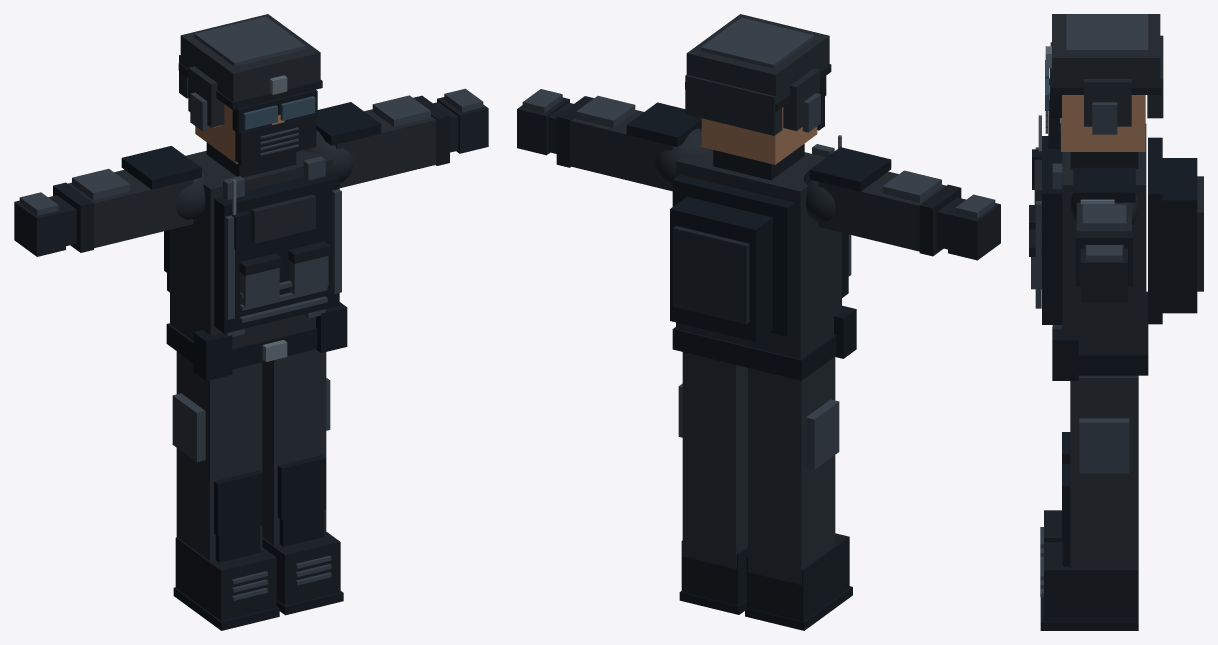
Rendered from joe.glb.
The picture shows the model from 3 angles, left to right: view 1: azimuth 30°, elevation 25°; view 2: azimuth 150°, elevation 25°; view 3: azimuth 270°, elevation 25°; orthographic projection. The views are drawn at different scales.
Parts seen in each view (by area): view 1: trousers_R, jacket_body, trousers_L, vest_front, boot_R, helmet_shell, sleeve_R, sleeve_L, boot_L, helmet_panel, knee_patch_L, knee_patch_R (+31 smaller); view 2: trousers_R, trousers_L, jacket_body, backpack, backpack_panel, vest_back, sleeve_R, helmet_shell, boot_R, sleeve_L, helmet_rear, belt (+18 smaller); view 3: trousers_L, jacket_body, backpack, boot_L, helmet_shell, vest_front, helmet_panel, face, cargo_pocket_L, vest_back, glove_L, shoulder_armor_L (+22 smaller).
Part boxes in pixels (left/top/right/bottom): trousers_R: left=176, top=351, right=262, bottom=561; jacket_body: left=170, top=150, right=332, bottom=348; trousers_L: left=262, top=349, right=326, bottom=545; vest_front: left=214, top=170, right=339, bottom=333; boot_R: left=175, top=537, right=276, bottom=620; helmet_shell: left=180, top=14, right=320, bottom=101; sleeve_R: left=68, top=170, right=193, bottom=248; sleeve_L: left=335, top=109, right=436, bottom=188; boot_L: left=262, top=532, right=340, bottom=605; helmet_panel: left=194, top=16, right=305, bottom=66; knee_patch_L: left=277, top=455, right=326, bottom=520; knee_patch_R: left=214, top=470, right=262, bottom=535; trousers_R: left=748, top=357, right=835, bottom=584; trousers_L: left=682, top=352, right=747, bottom=568; jacket_body: left=676, top=149, right=841, bottom=359; backpack: left=670, top=196, right=772, bottom=341; backpack_panel: left=673, top=226, right=749, bottom=324; vest_back: left=672, top=174, right=794, bottom=336; sleeve_R: left=818, top=171, right=945, bottom=251; helmet_shell: left=686, top=14, right=829, bottom=103; boot_R: left=746, top=533, right=849, bottom=621; sleeve_L: left=570, top=110, right=673, bottom=191; helmet_rear: left=685, top=74, right=782, bottom=135; belt: left=672, top=327, right=836, bottom=380; trousers_L: left=1070, top=375, right=1138, bottom=583; jacket_body: left=1062, top=124, right=1146, bottom=353; backpack: left=1162, top=158, right=1197, bottom=313; boot_L: left=1044, top=542, right=1137, bottom=621; helmet_shell: left=1052, top=14, right=1160, bottom=86; vest_front: left=1042, top=136, right=1062, bottom=324; helmet_panel: left=1066, top=14, right=1148, bottom=53; face: left=1061, top=95, right=1145, bottom=151; cargo_pocket_L: left=1079, top=418, right=1129, bottom=473; vest_back: left=1148, top=137, right=1162, bottom=324; glove_L: left=1080, top=248, right=1127, bottom=302; shoulder_armor_L: left=1073, top=167, right=1135, bottom=202.
Size of the model in its own units: 1.59 by 1.86 by 0.5185.
